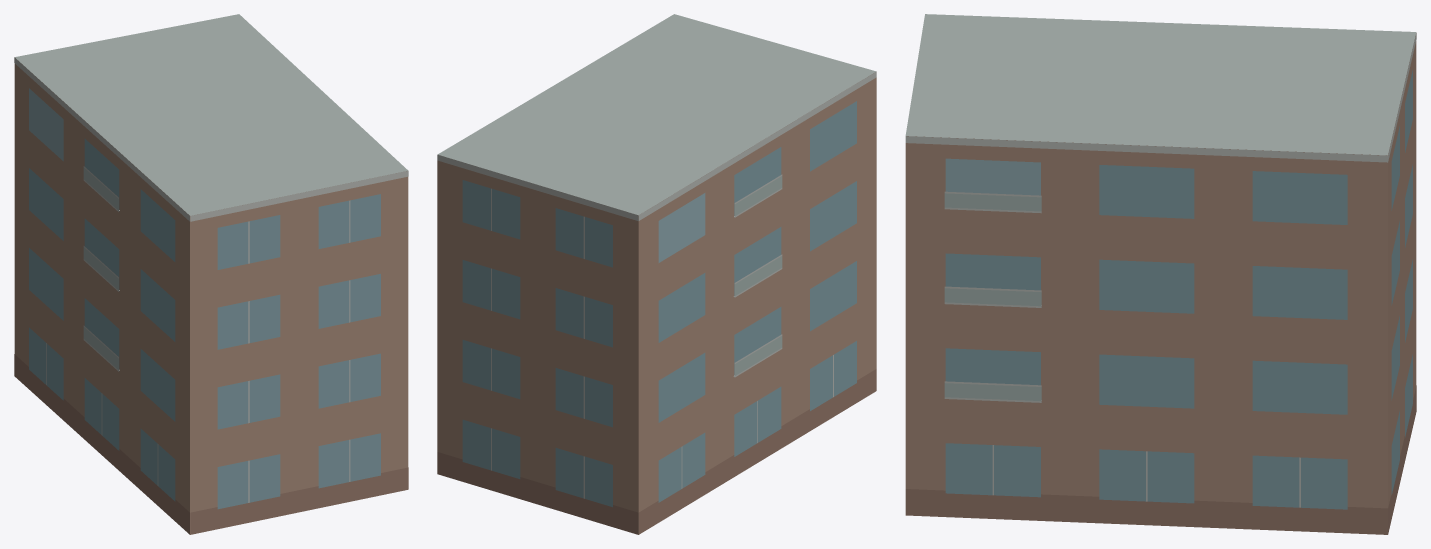
File: survey-upis-32912066.glb
The picture shows the model from 3 angles, left to right: view 1: azimuth 30°, elevation 25°; view 2: azimuth 150°, elevation 25°; view 3: azimuth 270°, elevation 25°; orthographic projection. The views are drawn at different scales.
Parts seen in each view (by area): view 1: survey-upis-32912066.tmp; view 2: survey-upis-32912066.tmp; view 3: survey-upis-32912066.tmp.
Part boxes in pixels (box(x1,y1,x2,y2)): survey-upis-32912066.tmp: box(14, 14, 408, 534); survey-upis-32912066.tmp: box(437, 14, 876, 534); survey-upis-32912066.tmp: box(905, 14, 1416, 534).
Bounding box in the file's own units: 10.48 × 13.1 × 16.
